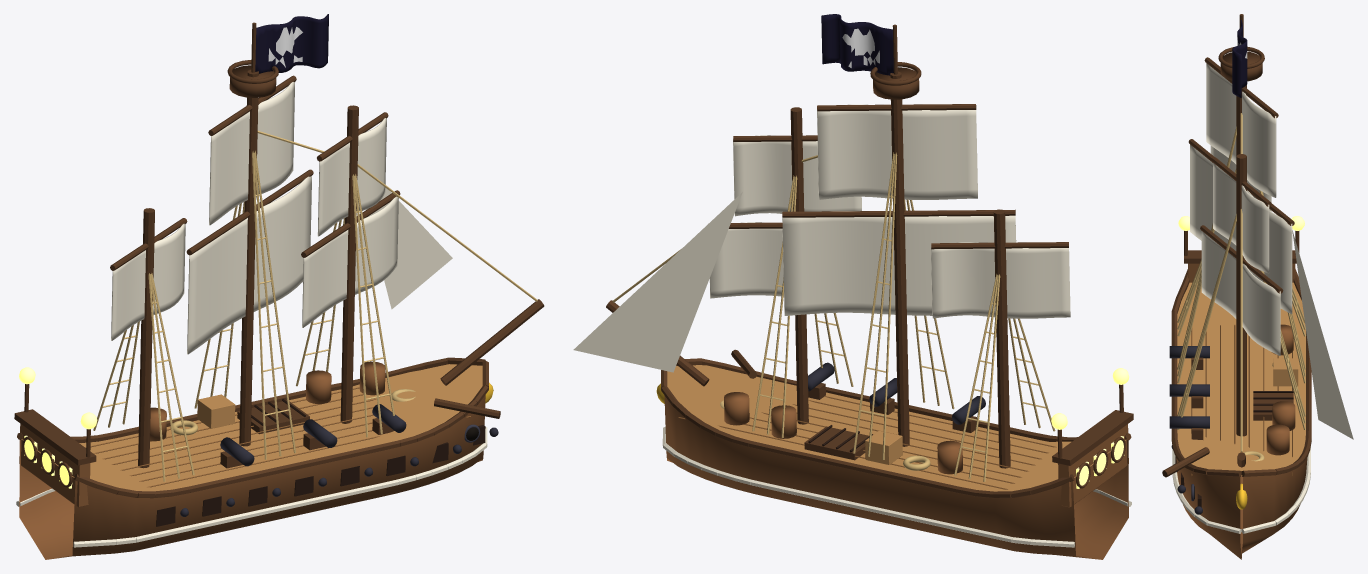
3 renders of one model, left to right at view 1: azimuth 30°, elevation 25°; view 2: azimuth 150°, elevation 25°; view 3: azimuth 270°, elevation 25°, orthographic. The views are drawn at different scales.
Visible parts, largest first — view 1: trup, paluba, plachta.001, plachta, plachta.003, plachta.004, plachta.002, vlajka, kosatka, Cylinder.120, Cylinder.121, Cylinder.122 (+17 smaller); view 2: trup, paluba, plachta.001, plachta, kosatka, plachta.004, plachta.002, plachta.003, Cylinder.120, vlajka, Cylinder.122, Cylinder.121 (+14 smaller); view 3: paluba, trup, plachta, plachta.003, plachta.001, plachta.002, kosatka, Cylinder.121, vlajka, Cylinder.220, Cylinder.224, Cube.013 (+21 smaller).
Boxes of the visible parts, x1=… form: trup: x1=19, y1=395, x2=485, y2=559; paluba: x1=21, y1=364, x2=482, y2=491; plachta.001: x1=187, y1=176, x2=311, y2=354; plachta: x1=209, y1=82, x2=294, y2=225; plachta.003: x1=302, y1=196, x2=398, y2=327; plachta.004: x1=111, y1=223, x2=185, y2=340; plachta.002: x1=317, y1=118, x2=386, y2=236; vlajka: x1=255, y1=14, x2=328, y2=73; kosatka: x1=366, y1=188, x2=452, y2=309; Cylinder.120: x1=239, y1=69, x2=258, y2=446; Cylinder.121: x1=340, y1=105, x2=358, y2=423; Cylinder.122: x1=138, y1=208, x2=154, y2=468; trup: x1=664, y1=395, x2=1128, y2=559; paluba: x1=667, y1=365, x2=1126, y2=491; plachta.001: x1=782, y1=211, x2=1016, y2=315; plachta: x1=817, y1=104, x2=977, y2=199; kosatka: x1=573, y1=192, x2=742, y2=372; plachta.004: x1=931, y1=242, x2=1070, y2=318; plachta.002: x1=733, y1=135, x2=861, y2=216; plachta.003: x1=709, y1=222, x2=783, y2=298; Cylinder.120: x1=890, y1=71, x2=909, y2=446; vlajka: x1=821, y1=14, x2=893, y2=75; Cylinder.122: x1=993, y1=209, x2=1010, y2=468; Cylinder.121: x1=790, y1=107, x2=808, y2=424; paluba: x1=1177, y1=282, x2=1305, y2=475; trup: x1=1176, y1=458, x2=1307, y2=559; plachta: x1=1206, y1=63, x2=1276, y2=197; plachta.003: x1=1201, y1=231, x2=1280, y2=355; plachta.001: x1=1190, y1=144, x2=1292, y2=314; plachta.002: x1=1213, y1=163, x2=1269, y2=273; kosatka: x1=1292, y1=230, x2=1353, y2=439; Cylinder.121: x1=1236, y1=154, x2=1246, y2=436; vlajka: x1=1232, y1=20, x2=1247, y2=97; Cylinder.220: x1=1240, y1=209, x2=1242, y2=451; Cylinder.224: x1=1266, y1=424, x2=1289, y2=455; Cube.013: x1=1253, y1=393, x2=1293, y2=420.
Size of the model in its own units: 5.41 by 5.14 by 2.
